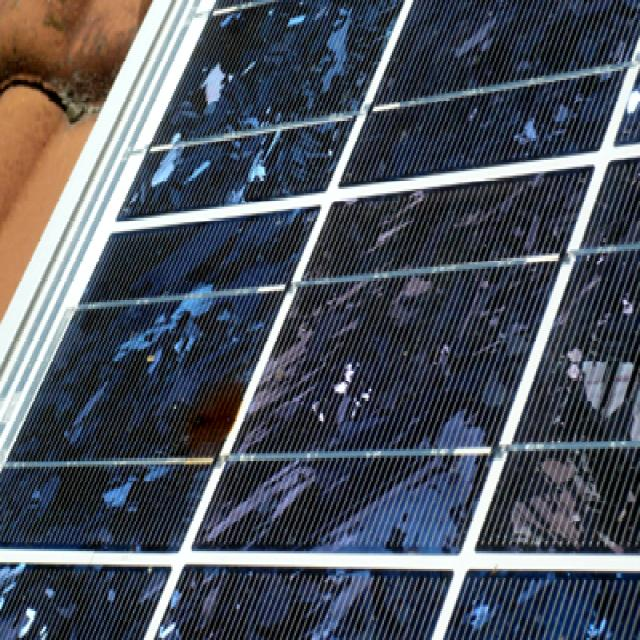shadow: (158, 361, 268, 471)
